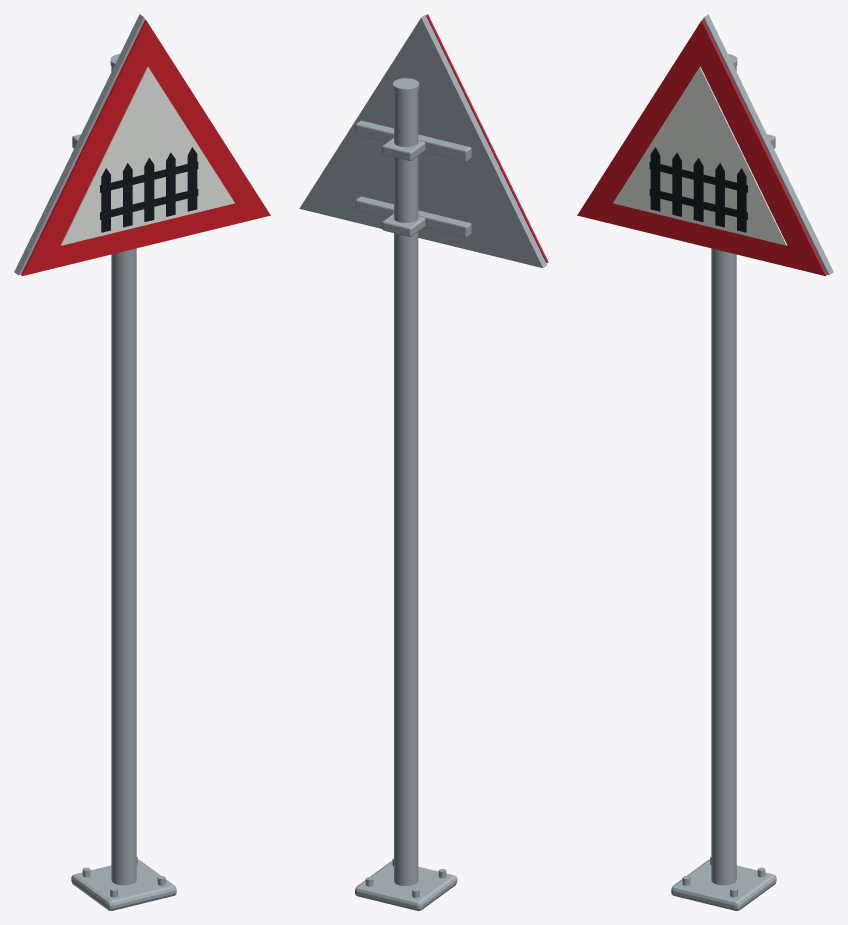
Rendered from DS_Sign_RailwayBarrier.glb.
3 views of the same model, side by side, from view 1: azimuth 30°, elevation 25°; view 2: azimuth 150°, elevation 25°; view 3: azimuth 330°, elevation 25° (orthographic). The views are drawn at different scales.
Parts seen in each view (by area): view 1: Post, Face_Border, Face_Field, BasePlate, Plate_Back, Pictogram_Picket.002, Pictogram_Picket.004, Pictogram_Picket, Pictogram_Picket.001, Pictogram_Picket.003; view 2: Plate_Back, Post, BasePlate, RearRail, RearRail.001, Face_Border, PostClamp, PostClamp.001; view 3: Post, Face_Border, Face_Field, BasePlate, Plate_Back, Pictogram_Picket.002, Pictogram_Picket, Pictogram_Picket.003, Pictogram_Picket.004, Pictogram_Picket.001.
Boxes of the visible parts, x1,y1,x2,y2 form: Post: (111,66,136,885); Face_Border: (21,20,270,275); Face_Field: (60,66,234,245); BasePlate: (71,859,176,910); Plate_Back: (14,14,145,275); Pictogram_Picket.002: (144,158,154,221); Pictogram_Picket.004: (187,147,197,211); Pictogram_Picket: (101,168,110,232); Pictogram_Picket.001: (123,163,132,227); Pictogram_Picket.003: (166,152,175,216); Plate_Back: (299,14,546,267); Post: (394,91,418,885); BasePlate: (355,861,457,910); RearRail: (355,196,471,237); RearRail.001: (355,120,471,161); Face_Border: (426,14,548,263); PostClamp: (382,213,425,236); PostClamp.001: (382,138,425,160); Post: (711,66,736,885); Face_Border: (577,20,826,275); Face_Field: (613,66,787,245); BasePlate: (671,859,776,910); Plate_Back: (702,14,833,275); Pictogram_Picket.002: (693,158,703,221); Pictogram_Picket: (650,147,660,211); Pictogram_Picket.003: (715,163,724,227); Pictogram_Picket.004: (737,168,746,232); Pictogram_Picket.001: (672,152,681,216).
Size of the model in its own units: 0.8747 by 2.95 by 0.274.
